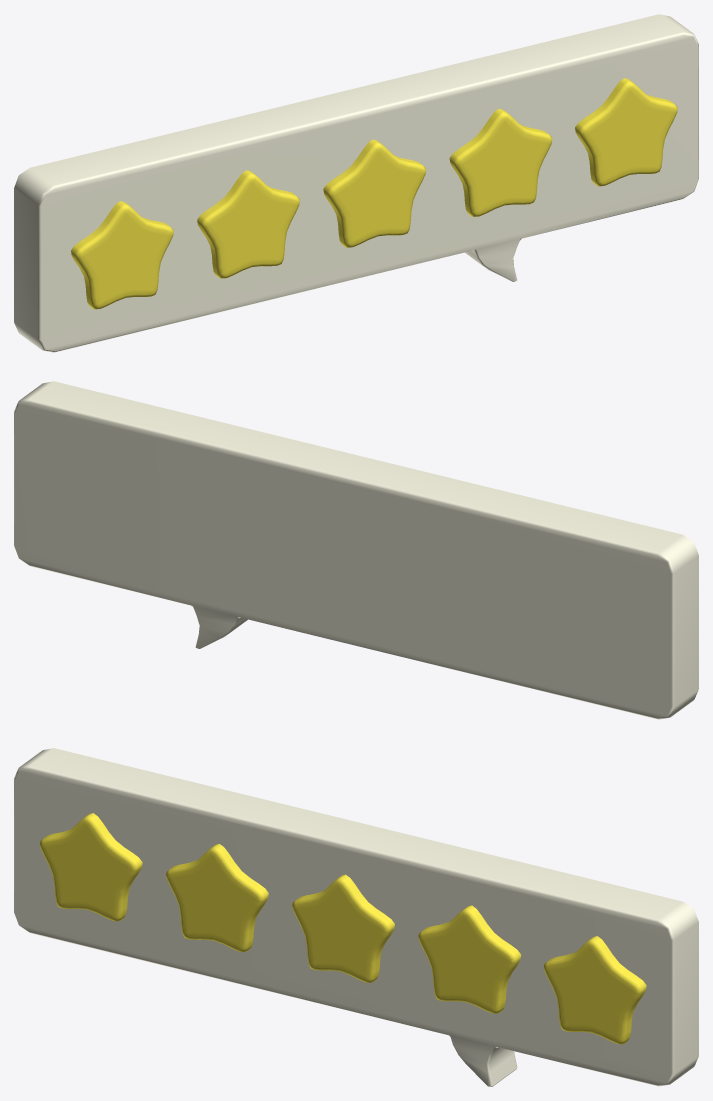
File: Public_7_Review_Sign_3.glb
3 renders of one model, top to bottom at view 1: azimuth 30°, elevation 25°; view 2: azimuth 150°, elevation 25°; view 3: azimuth 330°, elevation 25°, orthographic.
Visible parts, largest first — view 1: Public_7_Review_Sign_3; view 2: Public_7_Review_Sign_3; view 3: Public_7_Review_Sign_3.
Part boxes in pixels (box(x1,y1,x2,y2)): Public_7_Review_Sign_3: box(14, 14, 698, 352); Public_7_Review_Sign_3: box(14, 381, 698, 719); Public_7_Review_Sign_3: box(14, 748, 698, 1086).
Bounding box in the file's own units: 5.67 × 1.71 × 0.4899.
1 material, 1 textured.
